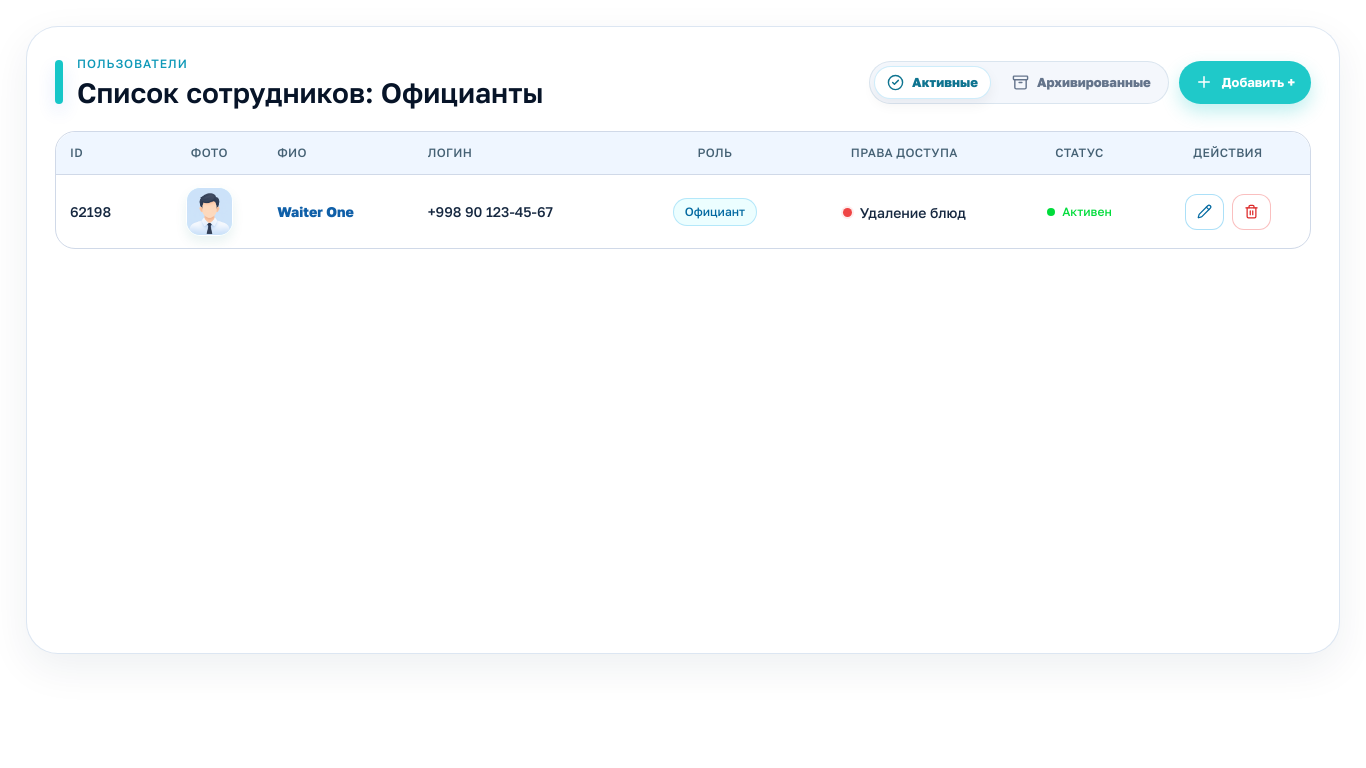
Test: waiter page visual contract (/users/waiter) — WAITER-01 › add drawer shows photo + 4 fields, no Email or role selector
Expected: the text "Waiter One" is shown, 263,174 -> 414,248
Click the button "Добавить +" at (1245, 82), box 1179,61 -> 1311,104
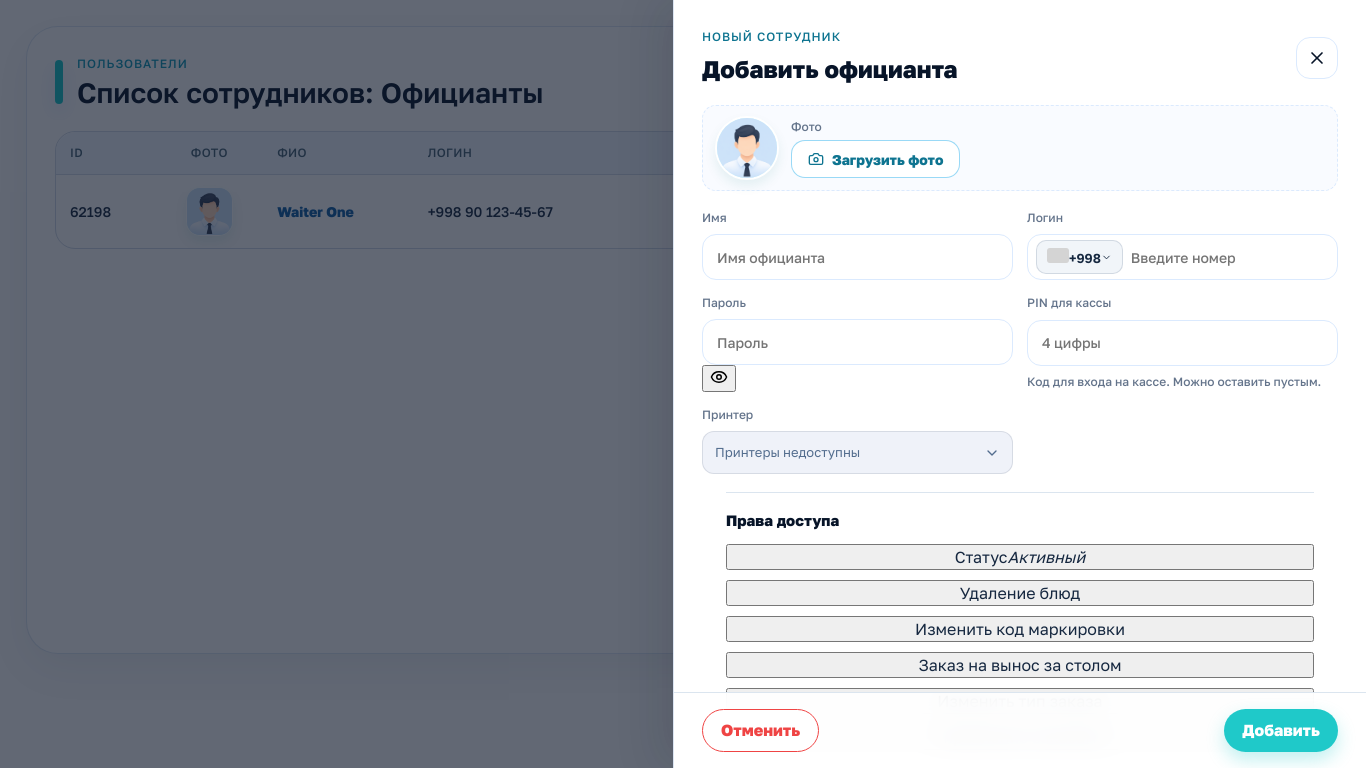
Expected: the form with class "staff-form--cashier" is shown, 673,0 -> 1365,767
Expected: the heading "Добавить официанта" is shown, 702,51 -> 958,87
Expected: the text "Загрузить фото" is shown, 791,140 -> 960,178
